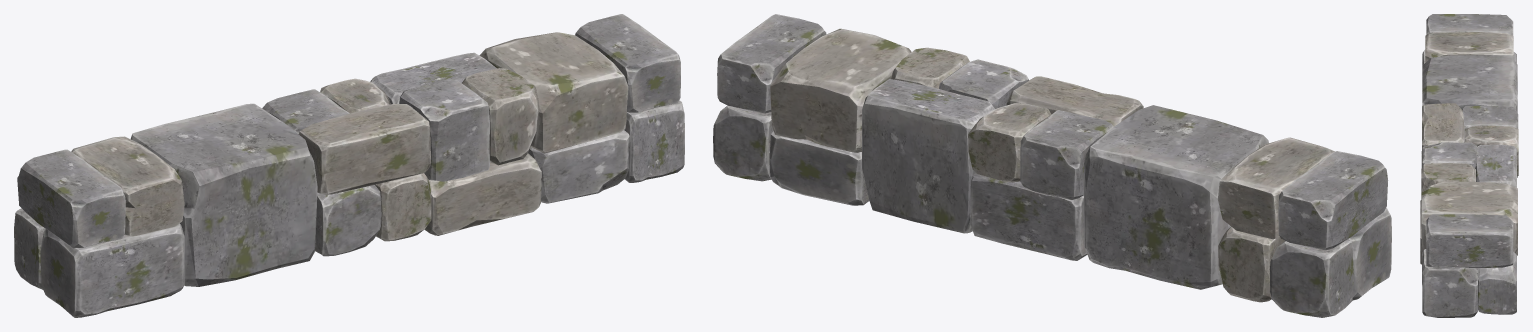
3 views of the same model, side by side, from view 1: azimuth 30°, elevation 25°; view 2: azimuth 150°, elevation 25°; view 3: azimuth 270°, elevation 25° (orthographic). The views are drawn at different scales.
Parts seen in each view (by area): view 1: SM_BB_T3_Beam_Thick_Large_Horizontal_LOD0; view 2: SM_BB_T3_Beam_Thick_Large_Horizontal_LOD0; view 3: SM_BB_T3_Beam_Thick_Large_Horizontal_LOD0.
Part boxes in pixels (x1,y1,x2,y2): SM_BB_T3_Beam_Thick_Large_Horizontal_LOD0: [14, 14, 684, 317]; SM_BB_T3_Beam_Thick_Large_Horizontal_LOD0: [713, 14, 1391, 317]; SM_BB_T3_Beam_Thick_Large_Horizontal_LOD0: [1420, 14, 1518, 317].
Bounding box in the file's own units: 3.02 × 0.5685 × 0.5697.
1 material, 1 textured.
